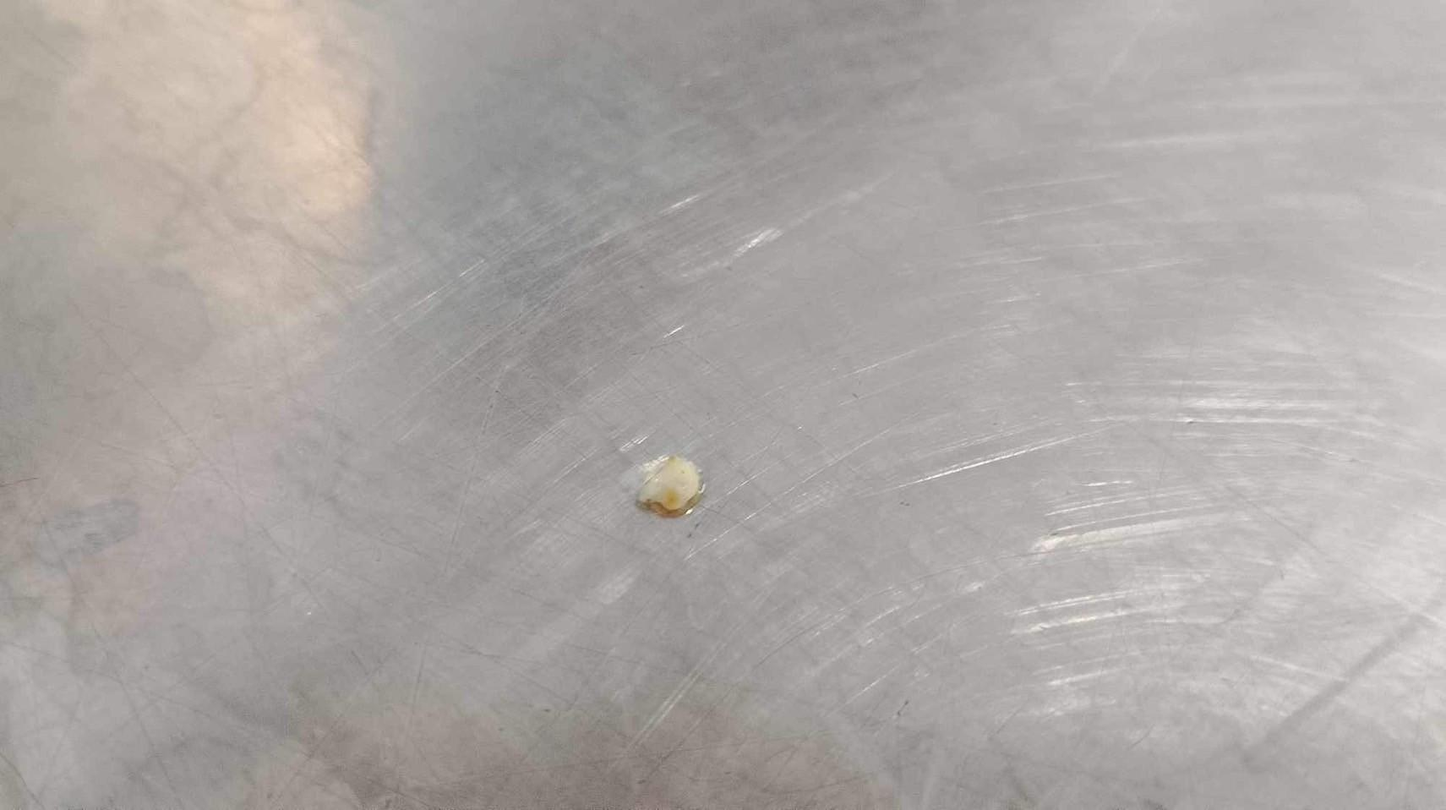General: (5, 3, 1439, 806)
Infectious: (635, 452, 704, 517)
